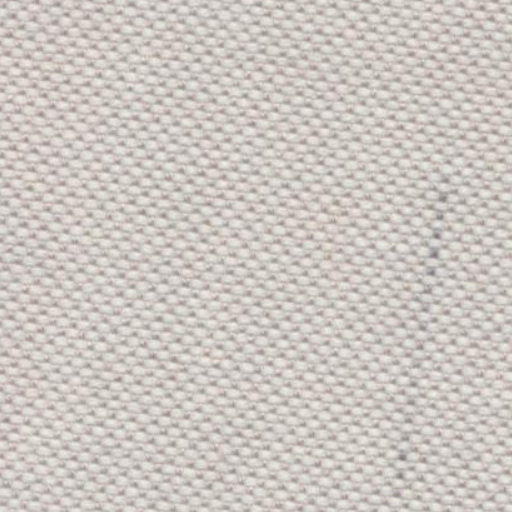WuZi: (381, 184, 449, 502)
